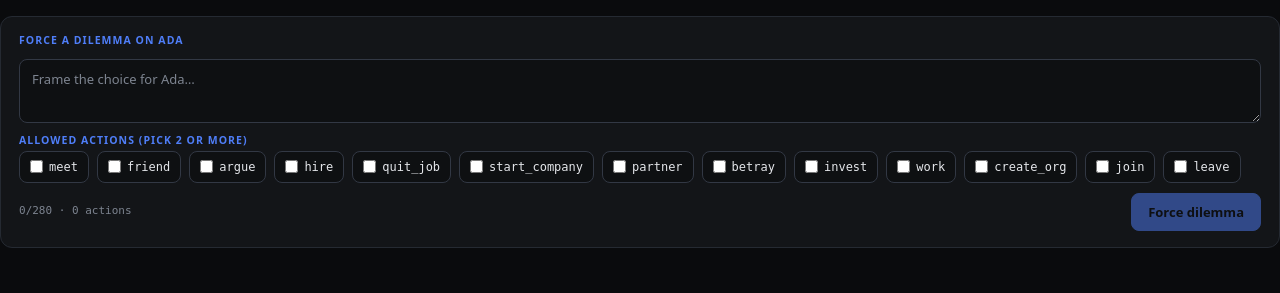
DilemmaBox › posts the framing text + selected actions and shows confirmation
The width and height of the screenshot is (1280, 293).
Type "Stay or go?" into the text box with placeholder "Frame the choice for Ada…". click: (640, 91)
box: [19,59,1261,123]
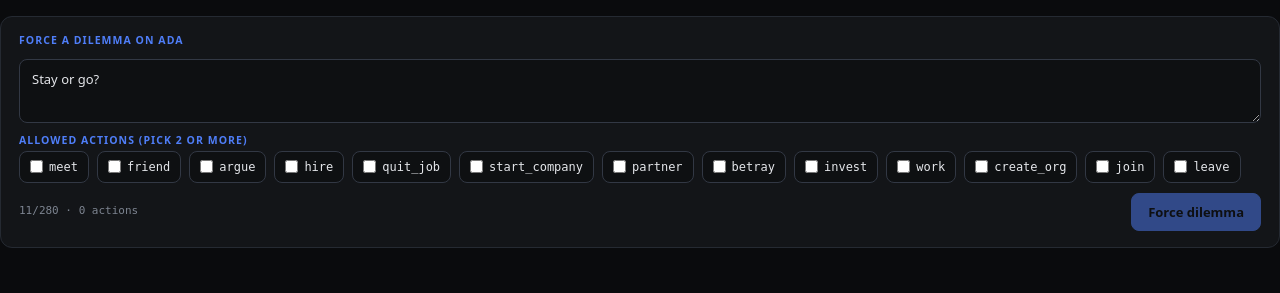
Click the checkbox labelled "work". click: (904, 166)
box: [897,160,910,173]
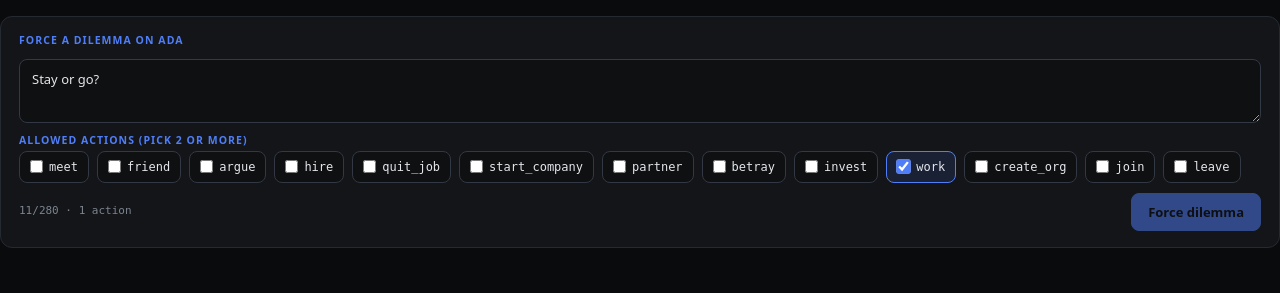
Click the checkbox labelled "quit_job". click: (370, 166)
box: [363,160,376,173]
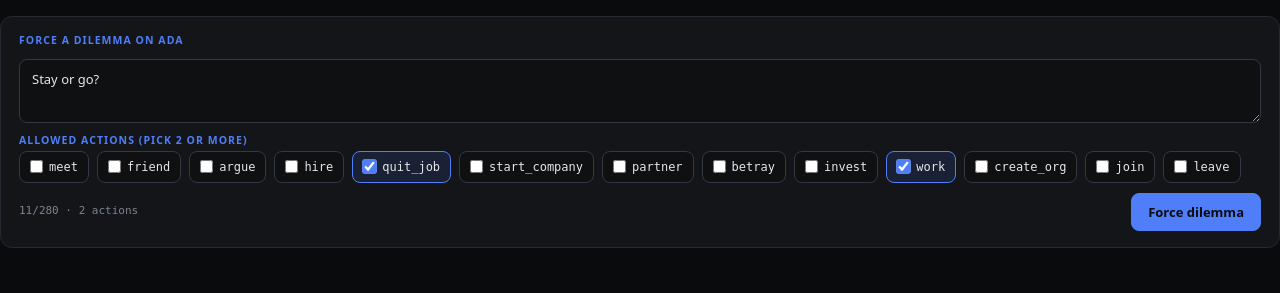
Click the button "Force dilemma". click: (1196, 212)
box: [1131,192,1261,230]
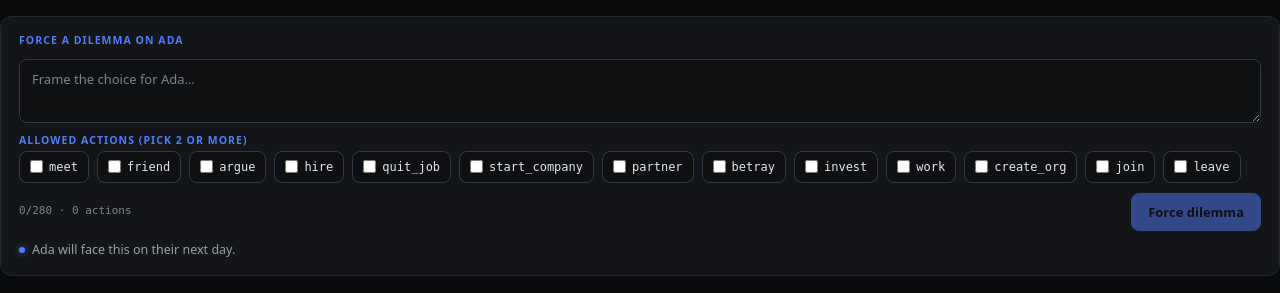
Check: the text "Ada will face this on their next day." is shown, box [32,240,235,258]
